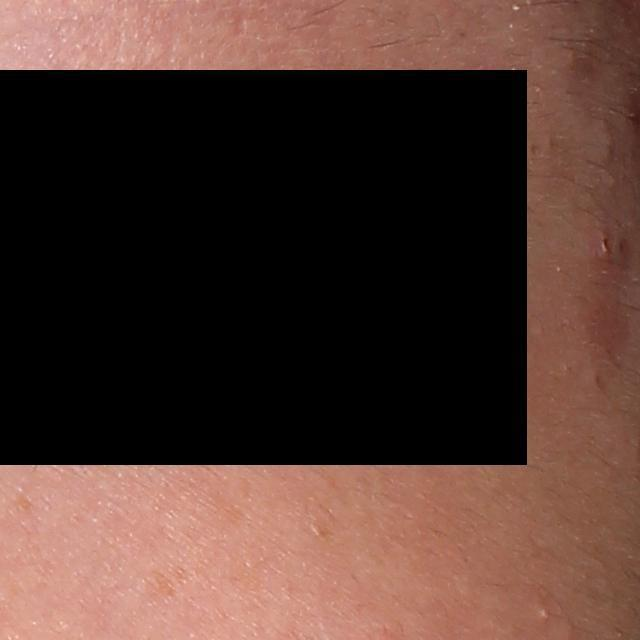comedo: (535, 603, 554, 624)
melasma: (142, 561, 191, 603)
